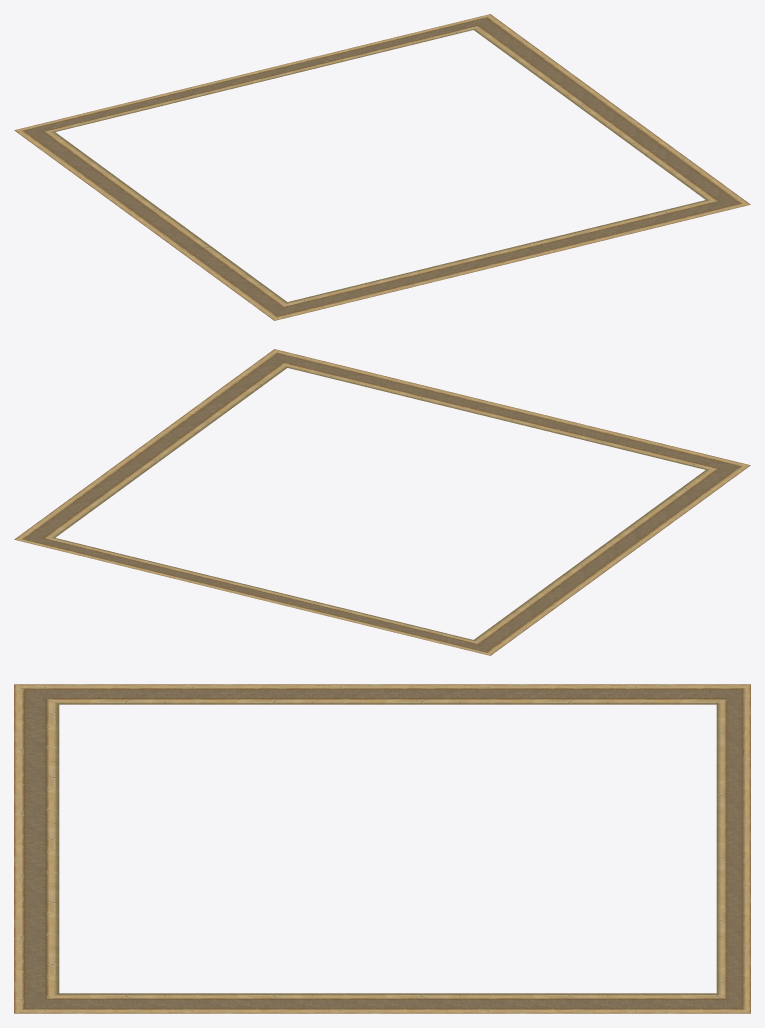
File: Ground12_Terrain_LostTemple_001.FBX
3 renders of one model, top to bottom at view 1: azimuth 30°, elevation 25°; view 2: azimuth 150°, elevation 25°; view 3: azimuth 270°, elevation 25°, orthographic. The views are drawn at different scales.
Visible parts, largest first — view 1: Ground12_Terrain_LostTemple_001; view 2: Ground12_Terrain_LostTemple_001; view 3: Ground12_Terrain_LostTemple_001.
Part boxes in pixels (box(x1,y1,x2,y2)): Ground12_Terrain_LostTemple_001: box(14, 14, 750, 320); Ground12_Terrain_LostTemple_001: box(14, 349, 750, 655); Ground12_Terrain_LostTemple_001: box(14, 684, 750, 1013).
Size of the model in its own units: 1976 by 8.18e-05 by 1870.
Materials: 1 (1 with a texture image).
